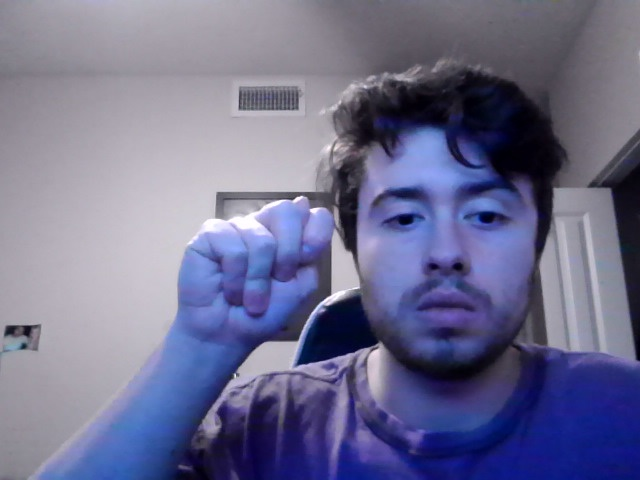t: (176, 195, 335, 371)
